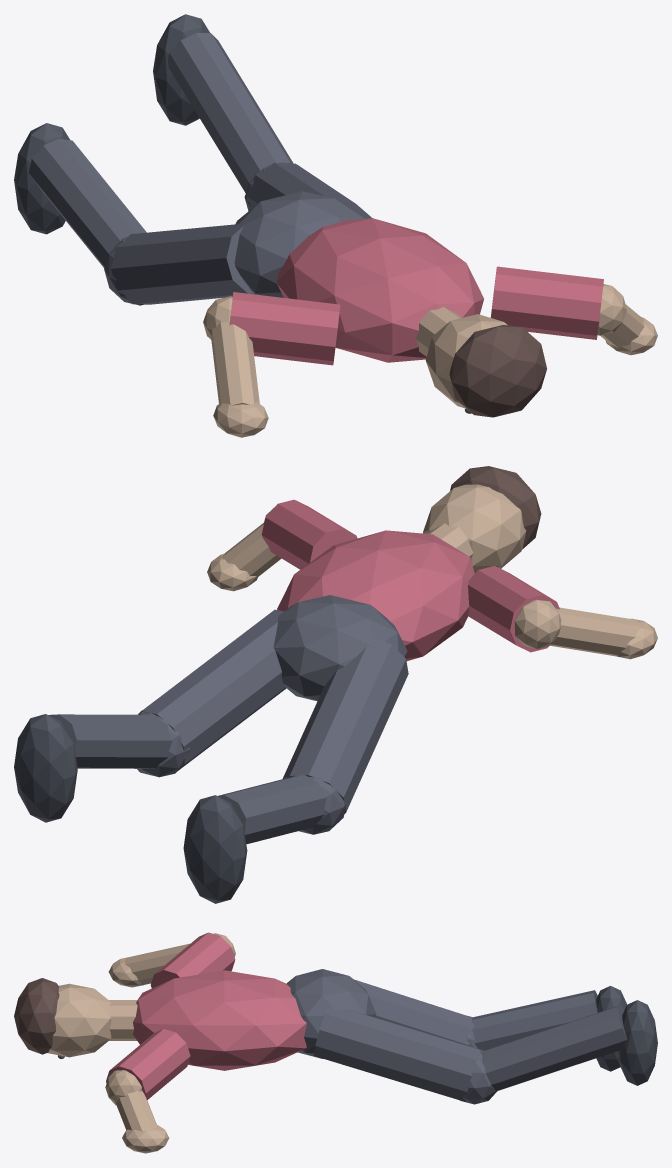
The picture shows the model from 3 angles, top to bottom: view 1: azimuth 30°, elevation 25°; view 2: azimuth 150°, elevation 25°; view 3: azimuth 270°, elevation 25°; orthographic projection. The views are drawn at different scales.
Parts seen in each view (by area): view 1: world; view 2: world; view 3: world.
Part boxes in pixels (x1=…): world: x1=14, y1=14, x2=657, y2=437; world: x1=14, y1=466, x2=657, y2=903; world: x1=14, y1=932, x2=657, y2=1153.
Size of the model in its own units: 1.25 by 0.4556 by 2.04.
